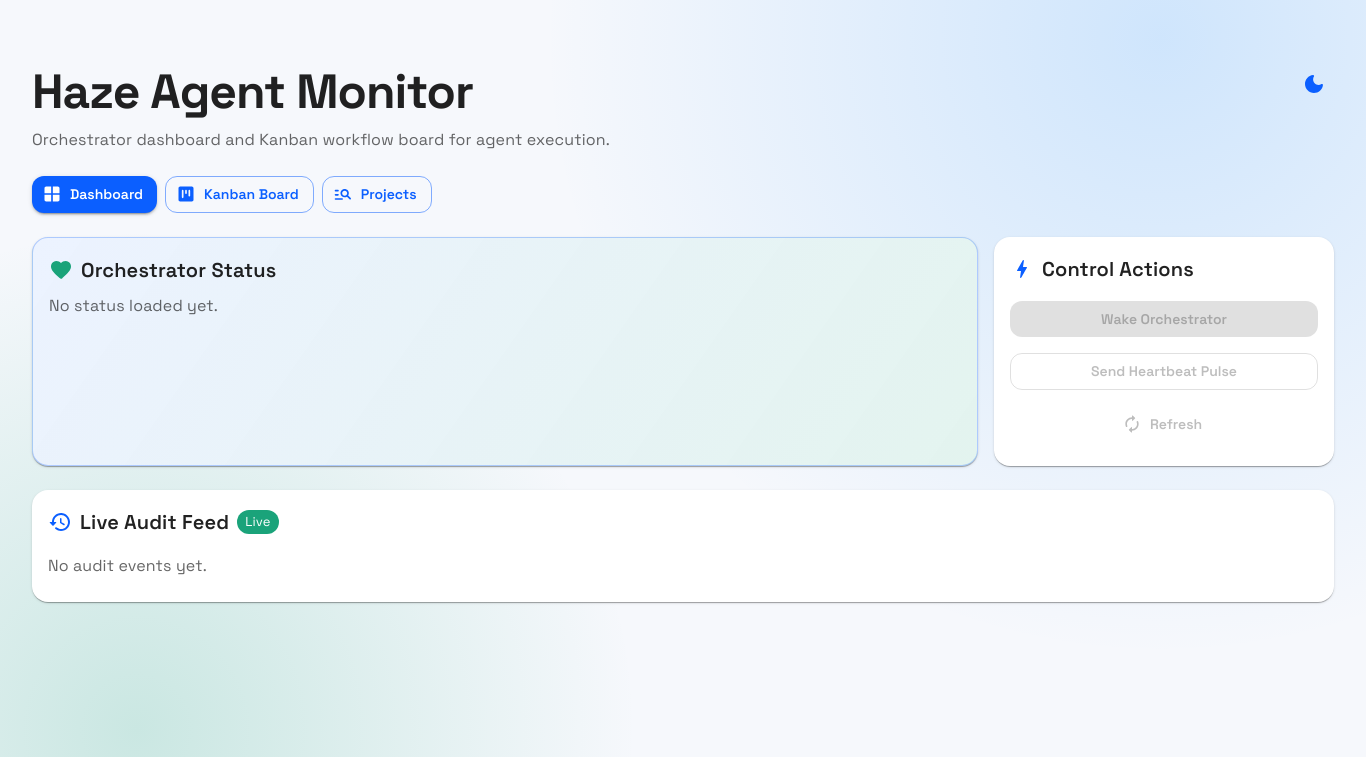
Test: App › filters kanban cards by selected tag
Click the button "Kanban Board" at {"x": 239, "y": 194}, box [165,176,314,212]
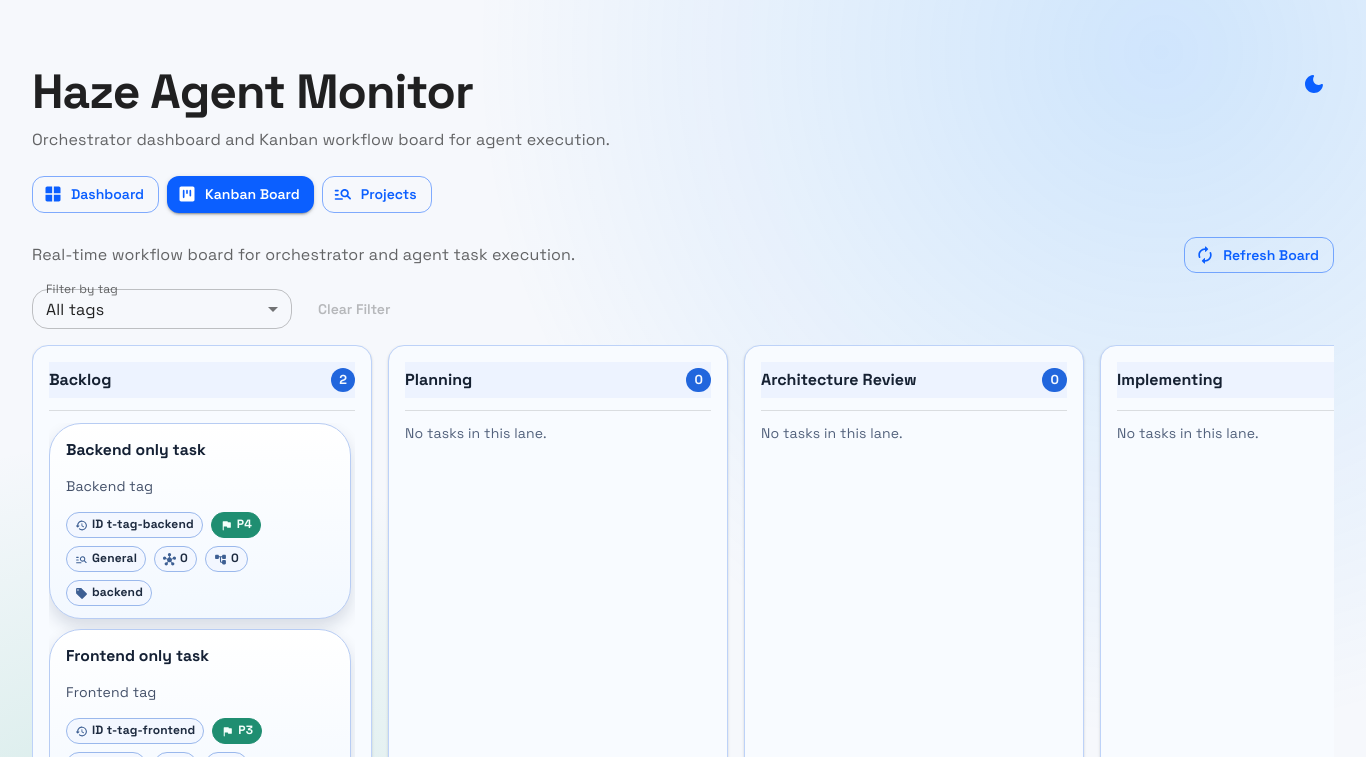
Check: the button "Backend only task" is shown, box [66,440,334,460]
Check: the button "Frontend only task" is shown, box [66,646,334,666]
Select "backend" in the dropdown named "filter by tag" at {"x": 162, "y": 309}, box [32,289,292,329]
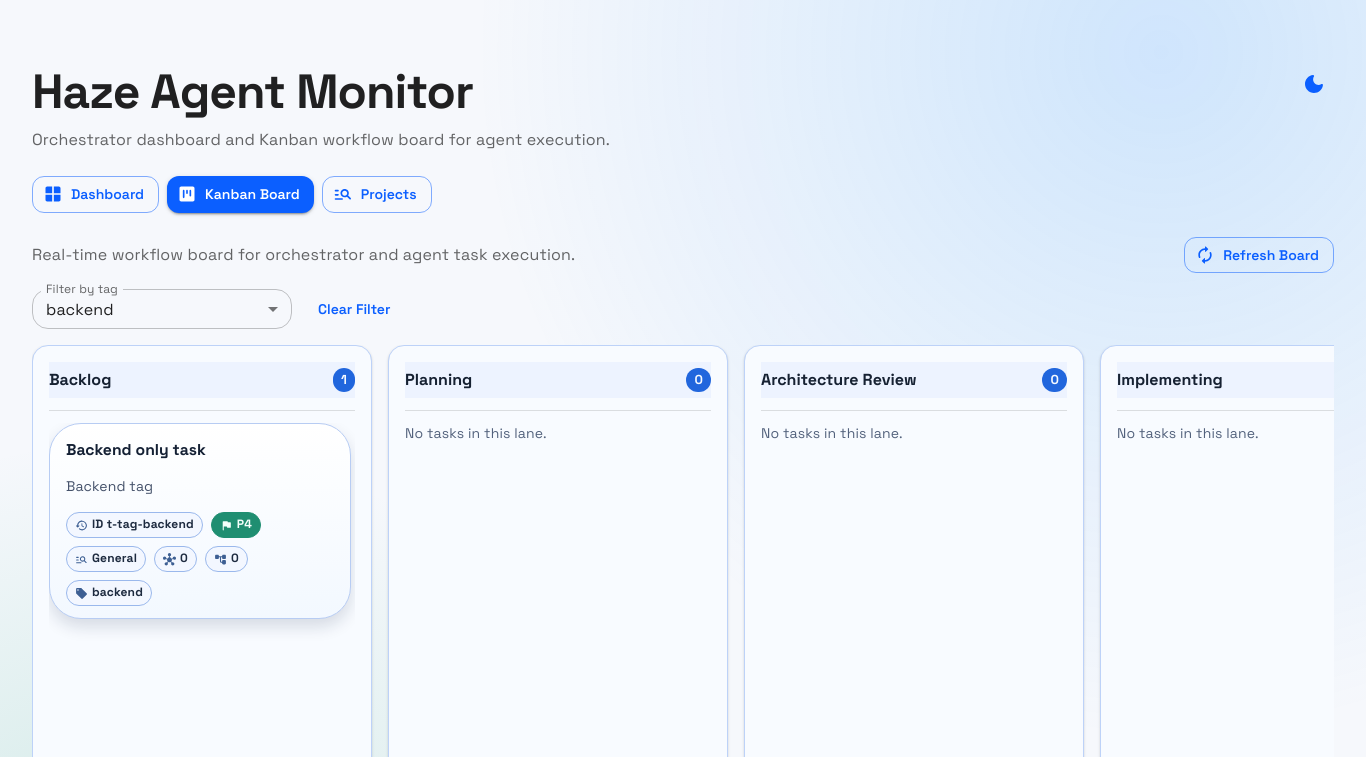
Check: the button "Backend only task" is shown, box [66,440,334,460]
Check: the button "Frontend only task" is gone
